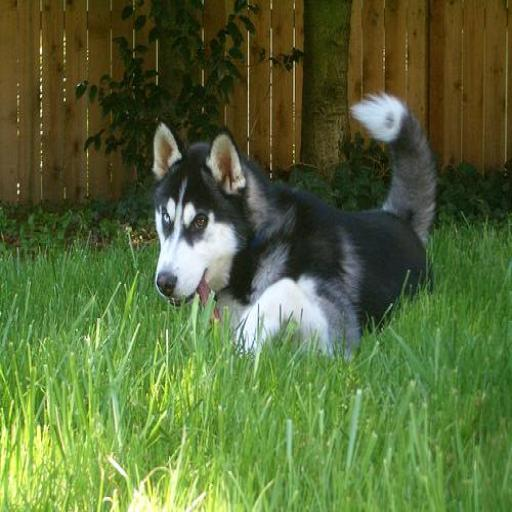dog_face: (147, 119, 244, 311)
